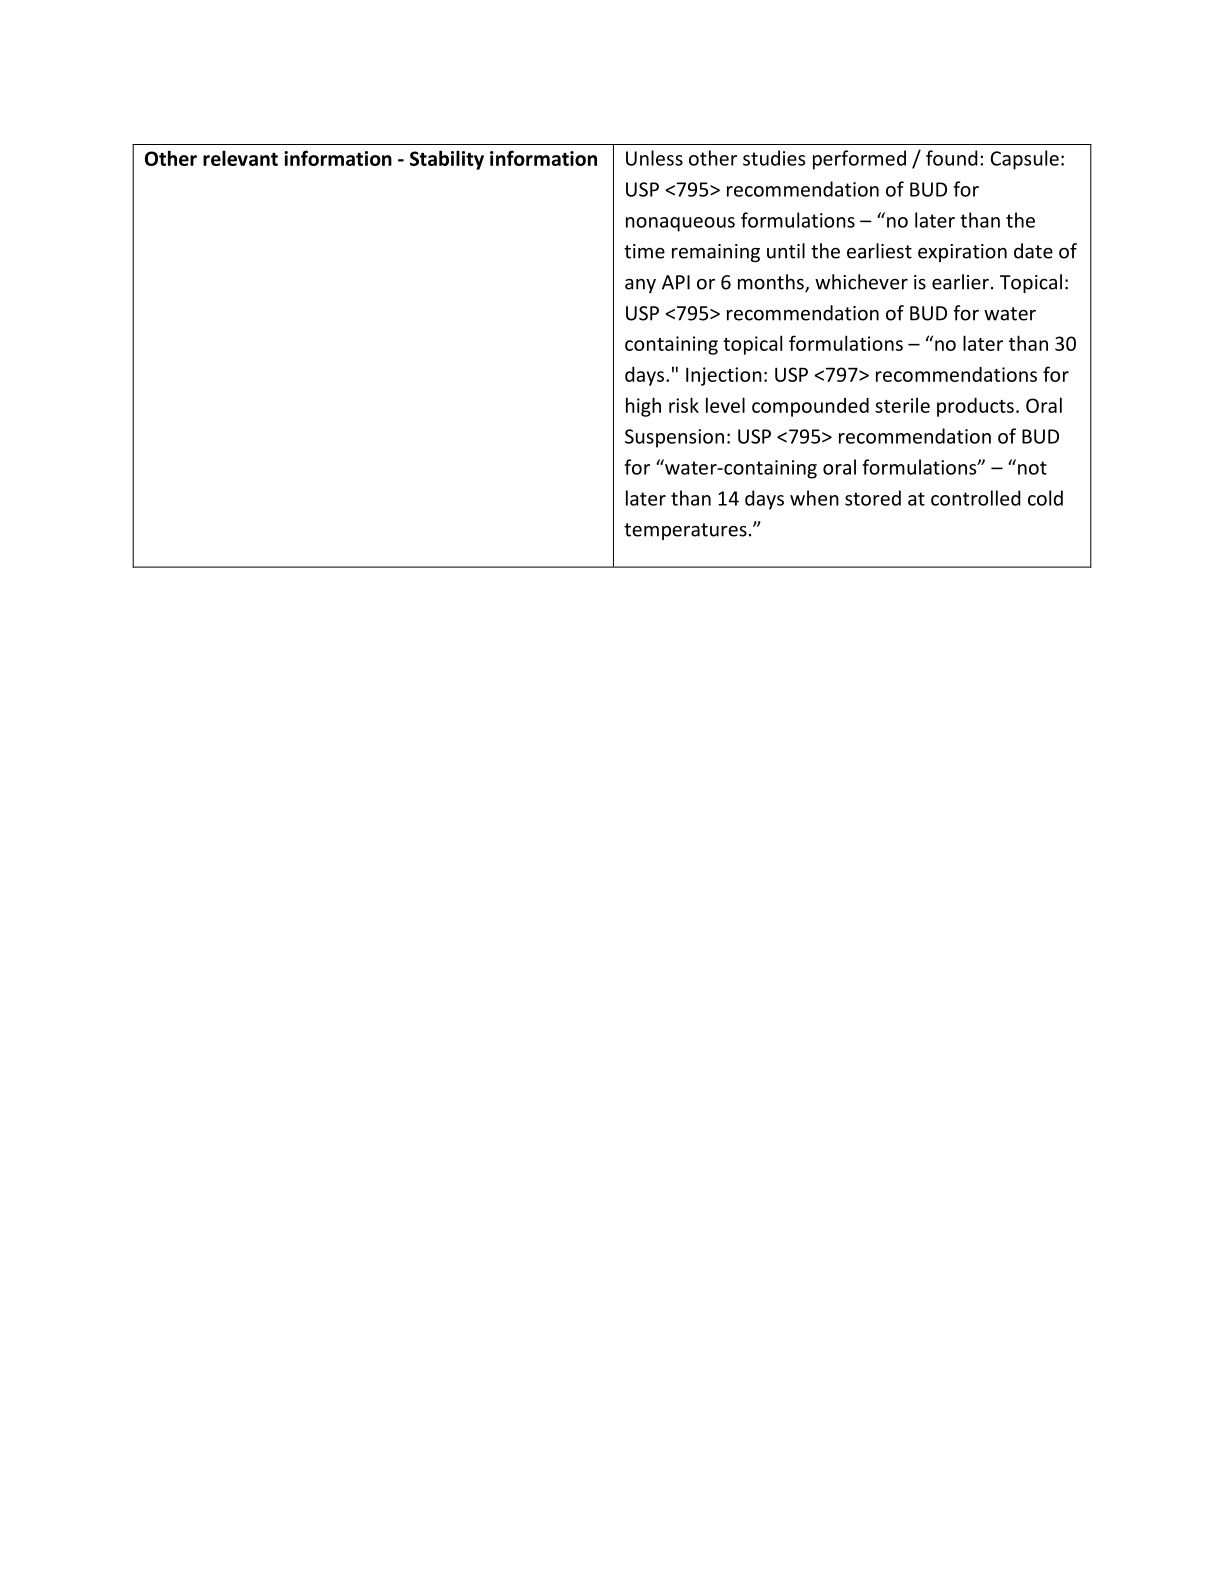full_lined: (132, 144, 1092, 568)
